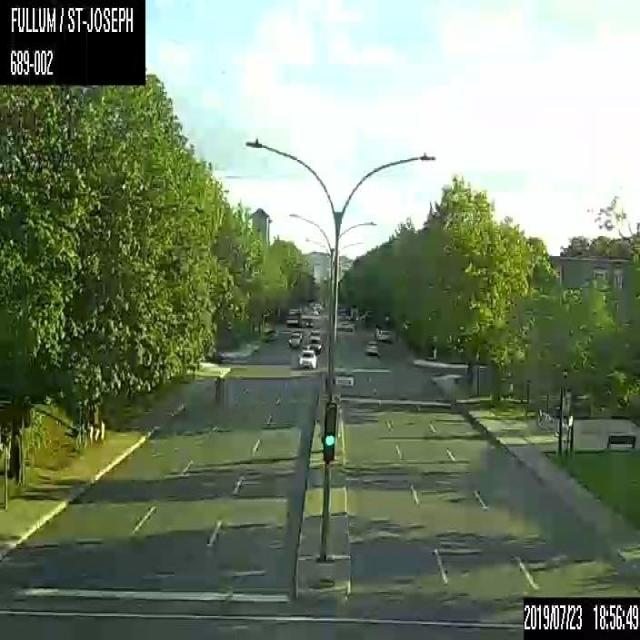vehicle: (298, 348, 316, 368), (373, 325, 392, 341), (306, 336, 322, 354), (285, 308, 301, 326), (361, 340, 378, 355), (288, 332, 302, 346), (305, 317, 313, 327)
